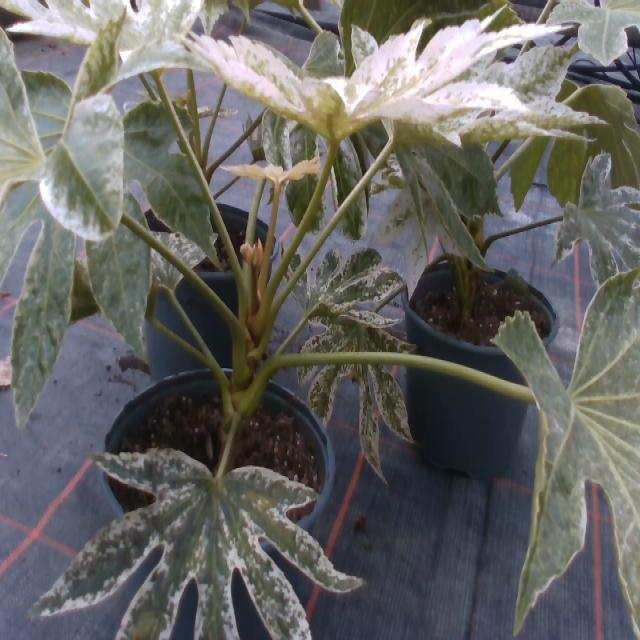Fatsia-japonica: (32, 419, 362, 640), (462, 266, 640, 634), (0, 31, 155, 432), (173, 20, 563, 151), (303, 306, 426, 486), (107, 94, 229, 263), (0, 0, 224, 73), (39, 97, 140, 249), (544, 152, 640, 292), (284, 241, 406, 315), (550, 0, 640, 73), (222, 157, 321, 191)
